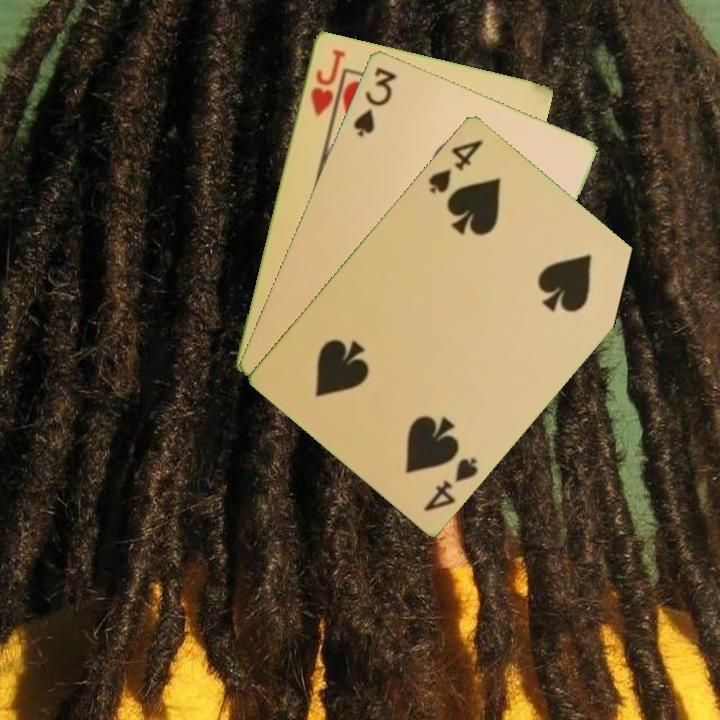3s: (349, 63, 400, 139)
4s: (424, 135, 486, 197), (420, 453, 481, 514)
Jh: (307, 45, 348, 119)
